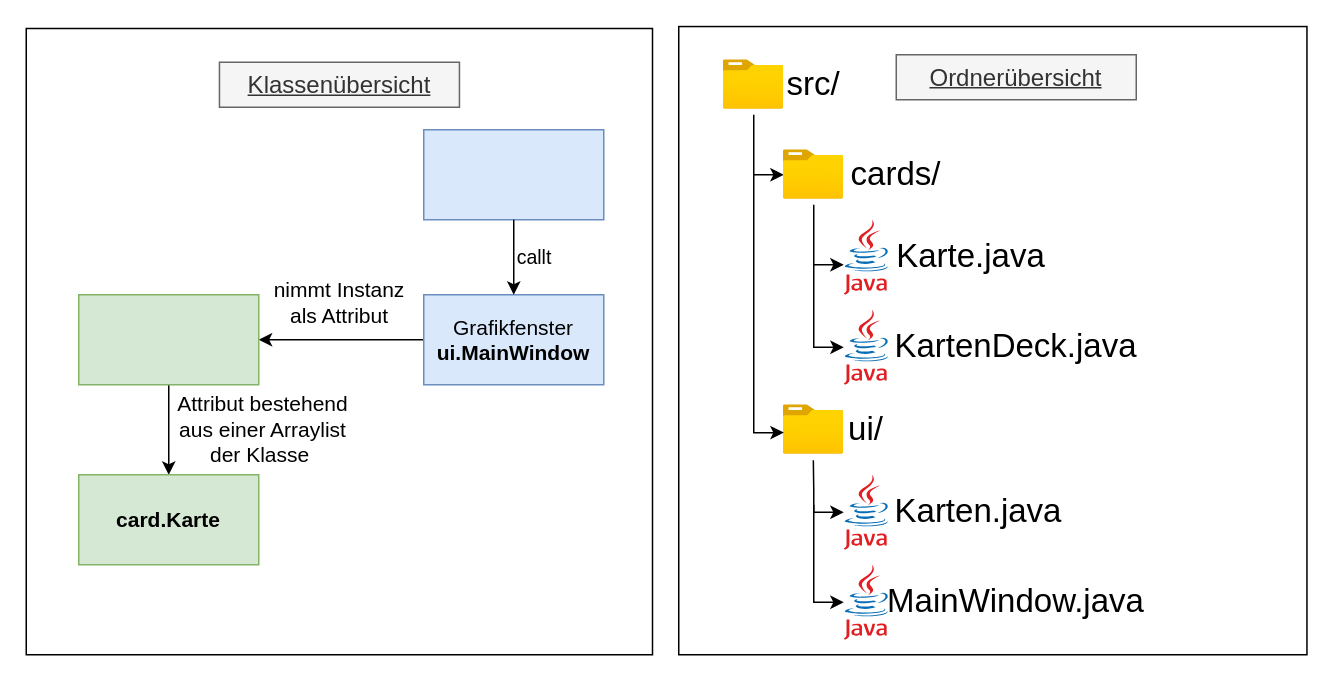
Some shapes in this 1334 by 681 pixel diagram are drawn without their labels. The centre of each missing label's shape, as x and y in pixels:
card.KartenDeck: pixel 168 339
Hauptklasse ui.Karten: pixel 513 174
